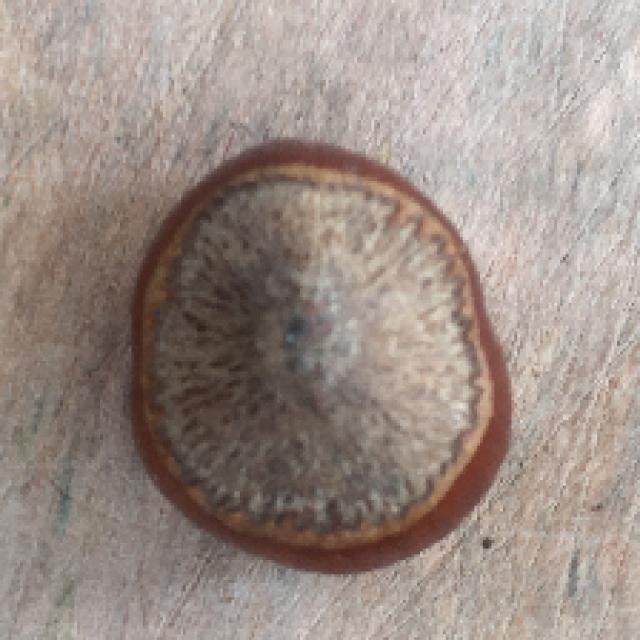damagedHazelnut: (114, 135, 531, 582)
